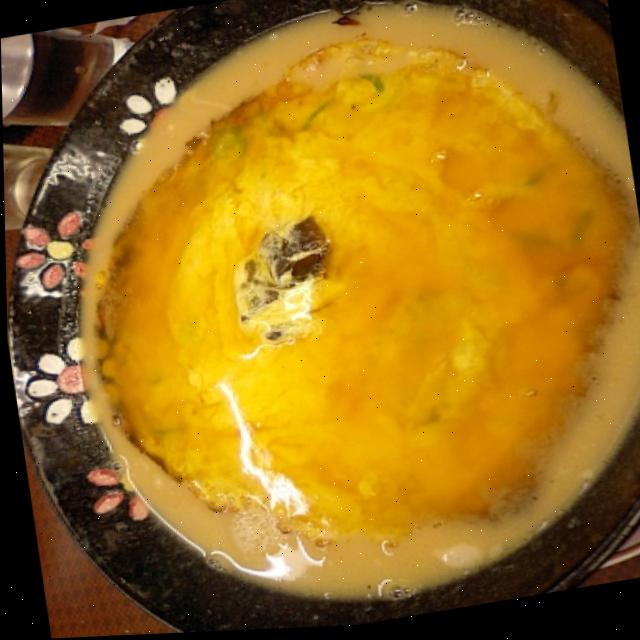面条主食: (95, 0, 640, 599)
